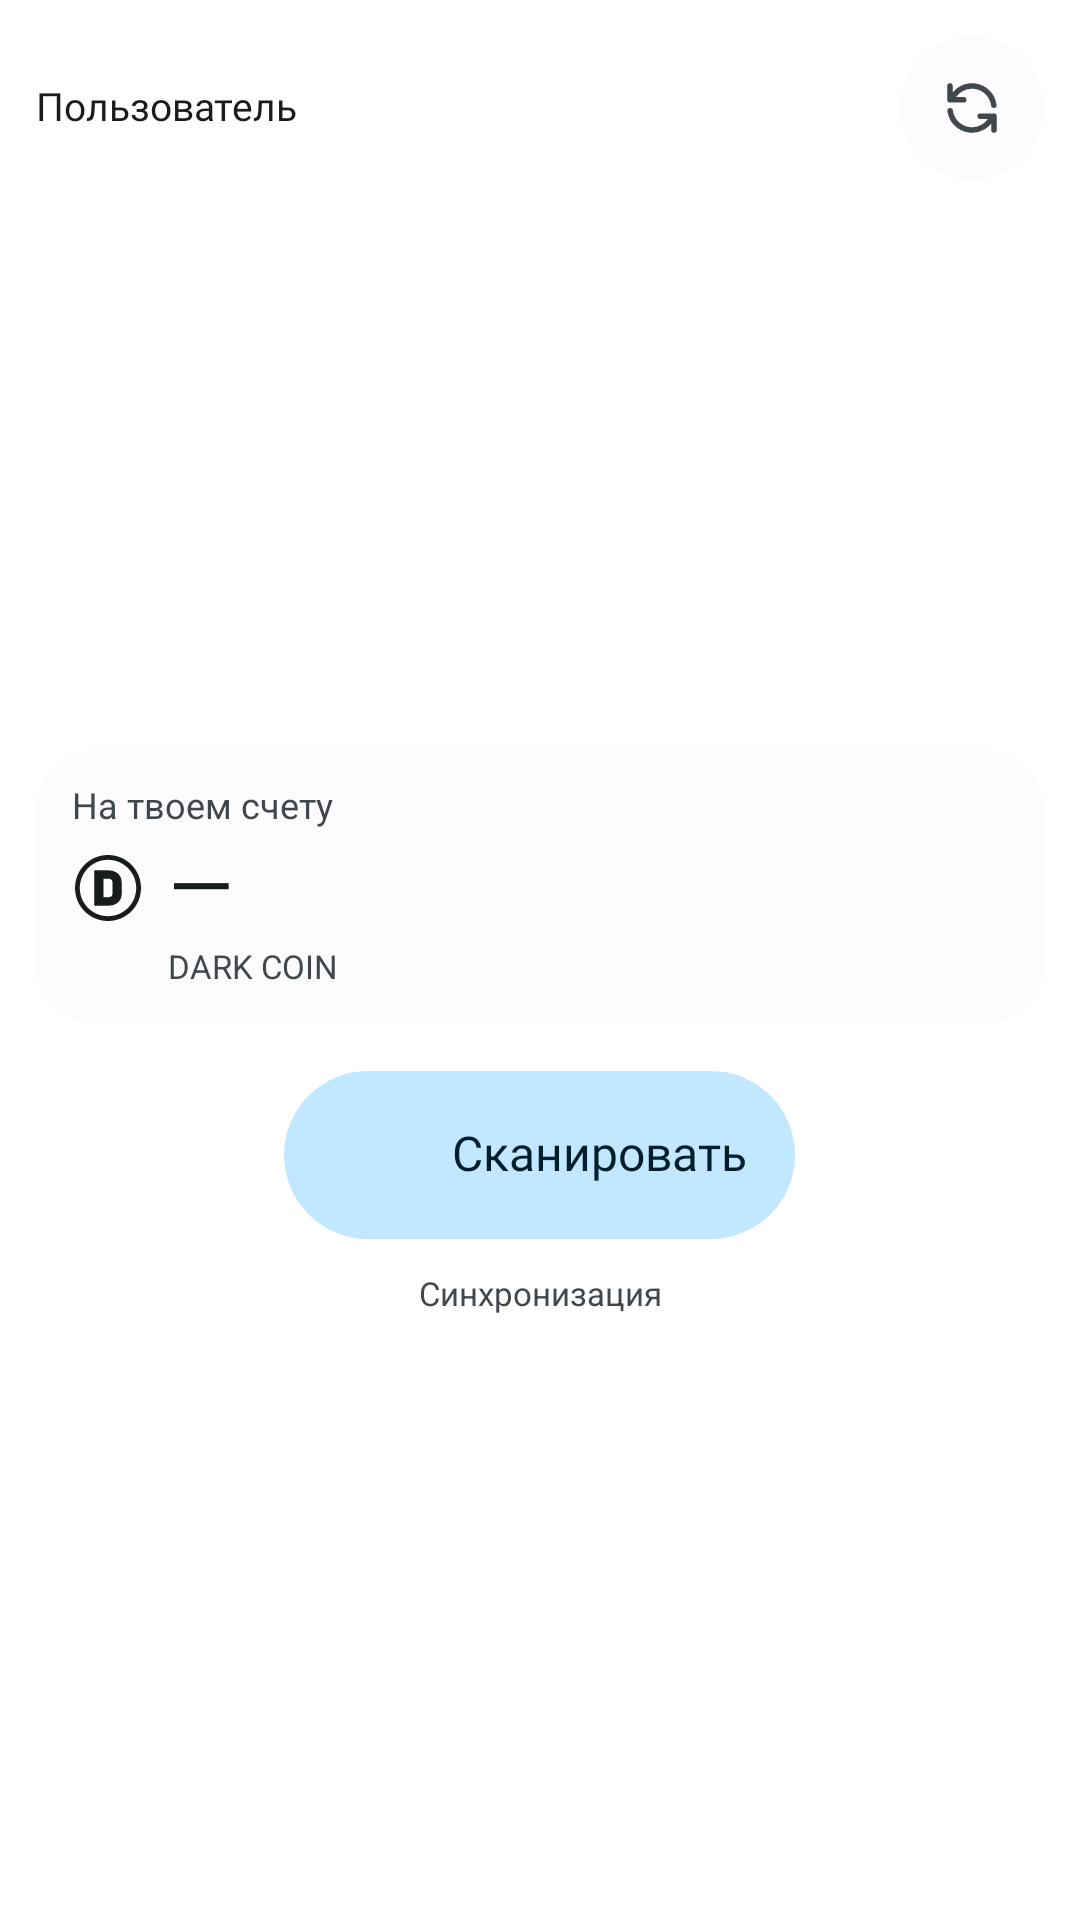

Icon bounding boxes for this 1080px x 1920px phone screenshot, format [x1,y1,x2,y2]:
Обновить баланс: [947,83,997,133]
